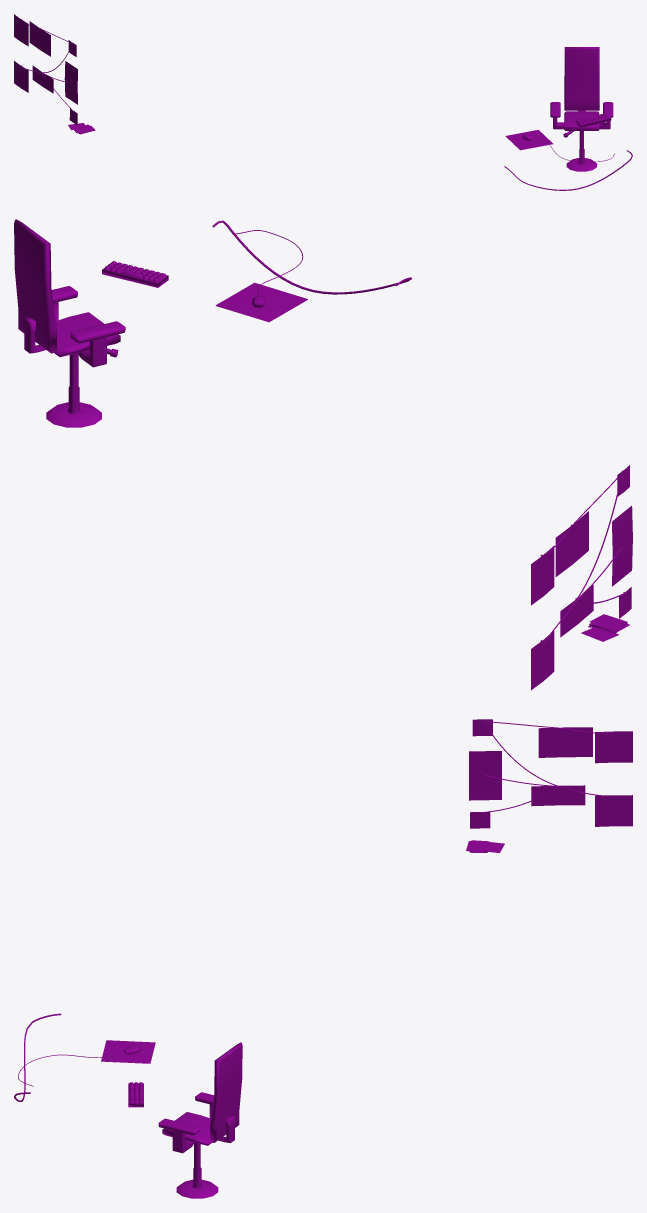
File: Setup_Salac.fbx
3 views of the same model, one above another, from view 1: azimuth 30°, elevation 25°; view 2: azimuth 150°, elevation 25°; view 3: azimuth 270°, elevation 25° (orthographic). The views are drawn at different scales.
Visible parts, largest first — view 1: Cadeira, Folhas, Mousepad, B_Teclado, B_CaboRadio; view 2: Cadeira, Folhas, Mousepad, B_Teclado, Papeis, FIozinhos, B_CaboRadio; view 3: Folhas, Cadeira, Mousepad, FIozinhos.
Part boxes in pixels (<box>): Cadeira: <box>550,47,613,171</box>; Folhas: <box>14,14,77,125</box>; Mousepad: <box>505,130,552,150</box>; B_Teclado: <box>575,113,611,127</box>; B_CaboRadio: <box>504,150,632,190</box>; Cadeira: <box>14,219,125,427</box>; Folhas: <box>531,465,632,690</box>; Mousepad: <box>215,282,307,322</box>; B_Teclado: <box>102,261,168,287</box>; Papeis: <box>581,614,629,641</box>; FIozinhos: <box>543,477,625,642</box>; B_CaboRadio: <box>212,220,411,294</box>; Folhas: <box>469,719,632,828</box>; Cadeira: <box>158,1042,242,1198</box>; Mousepad: <box>101,1040,155,1063</box>; FIozinhos: <box>480,721,613,812</box>.
Size of the model in its own units: 108 by 34.15 by 96.12.
